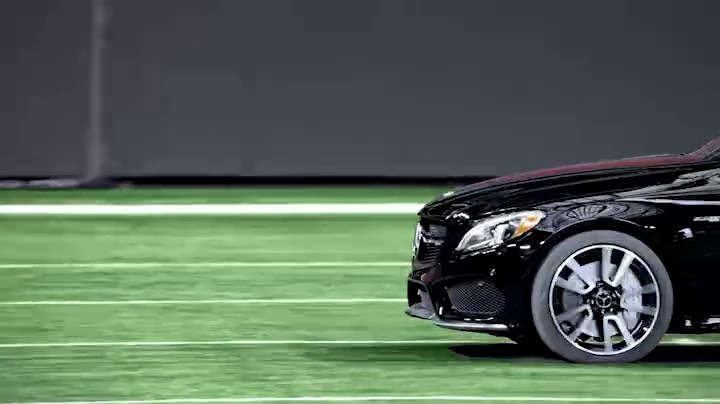amg: (396, 130, 720, 365)
